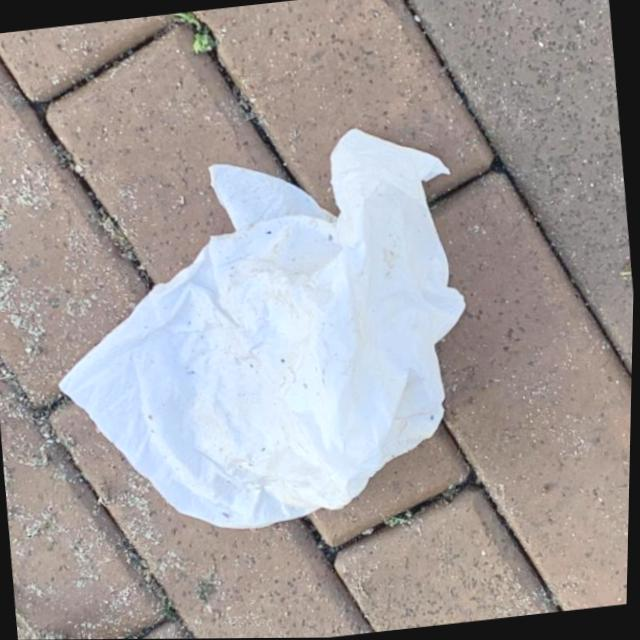Paper: (28, 112, 495, 551)
